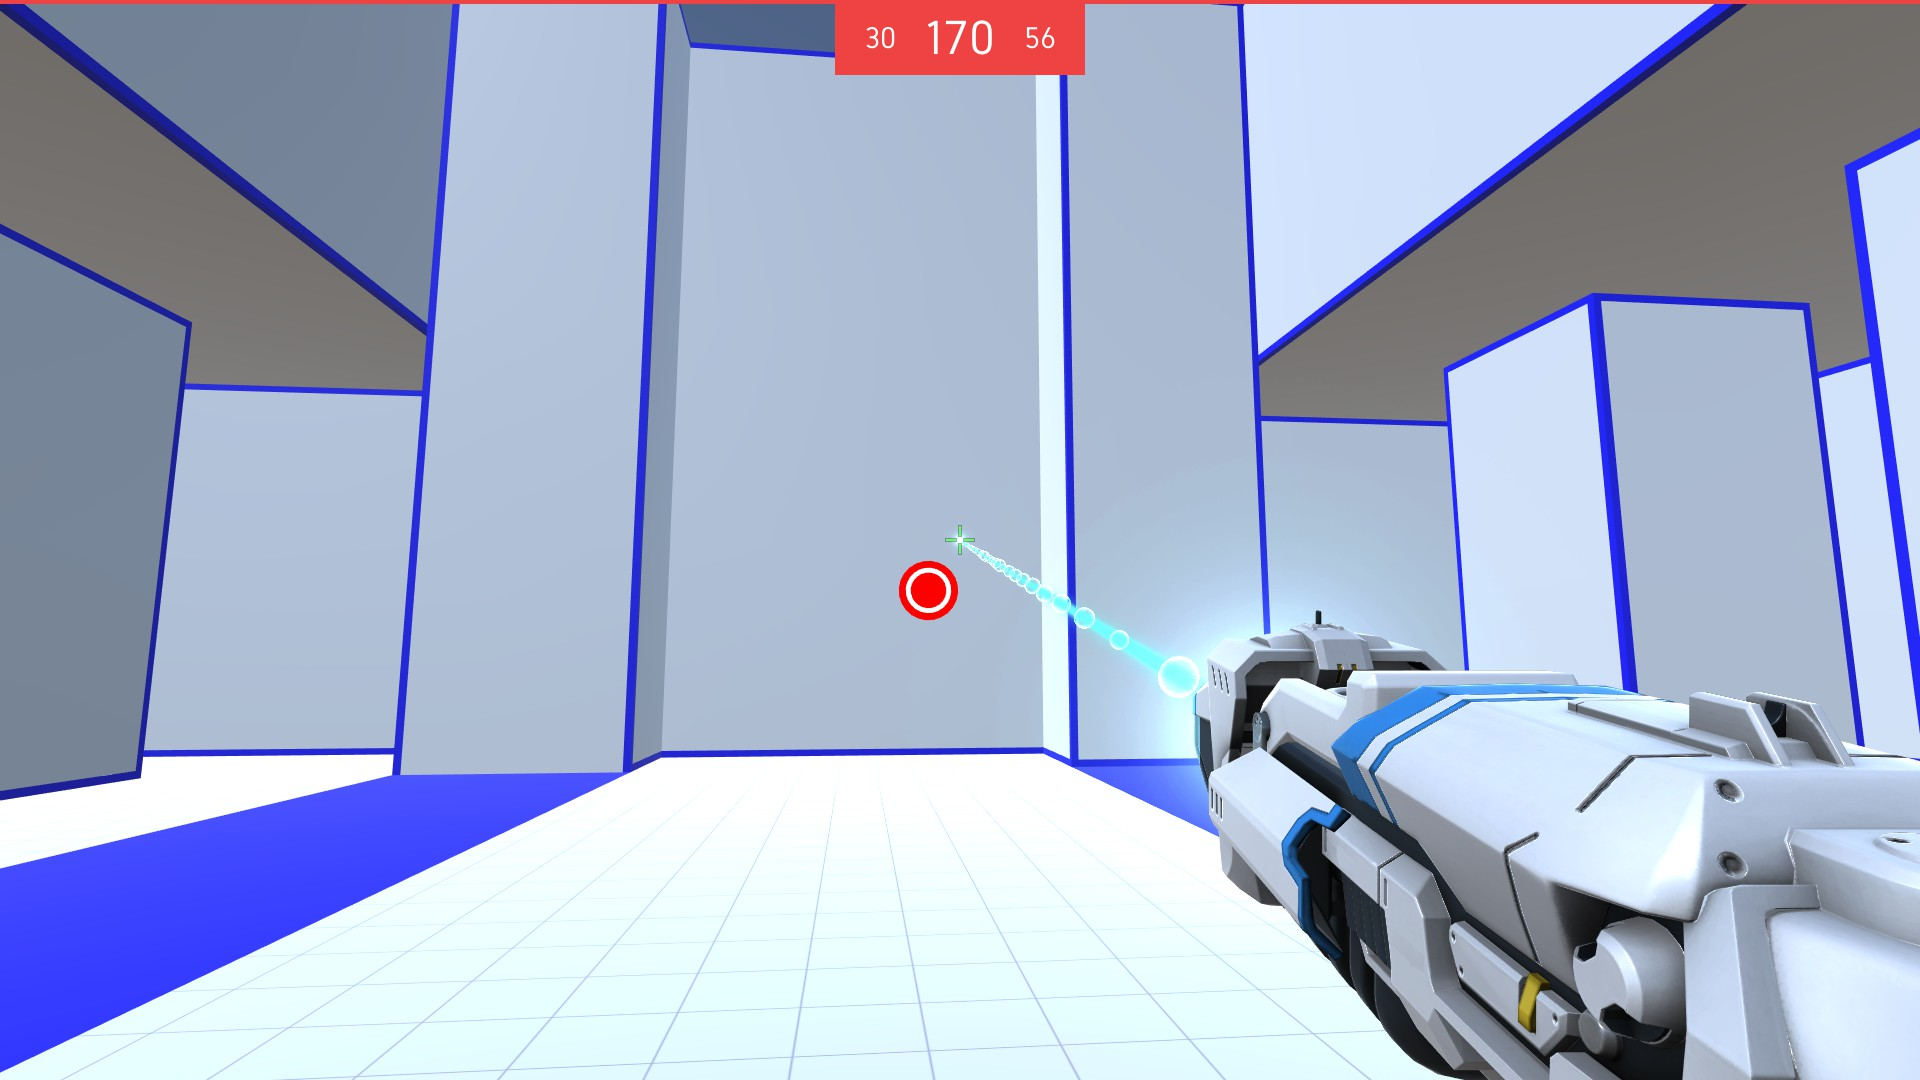target: (895, 559, 963, 622)
